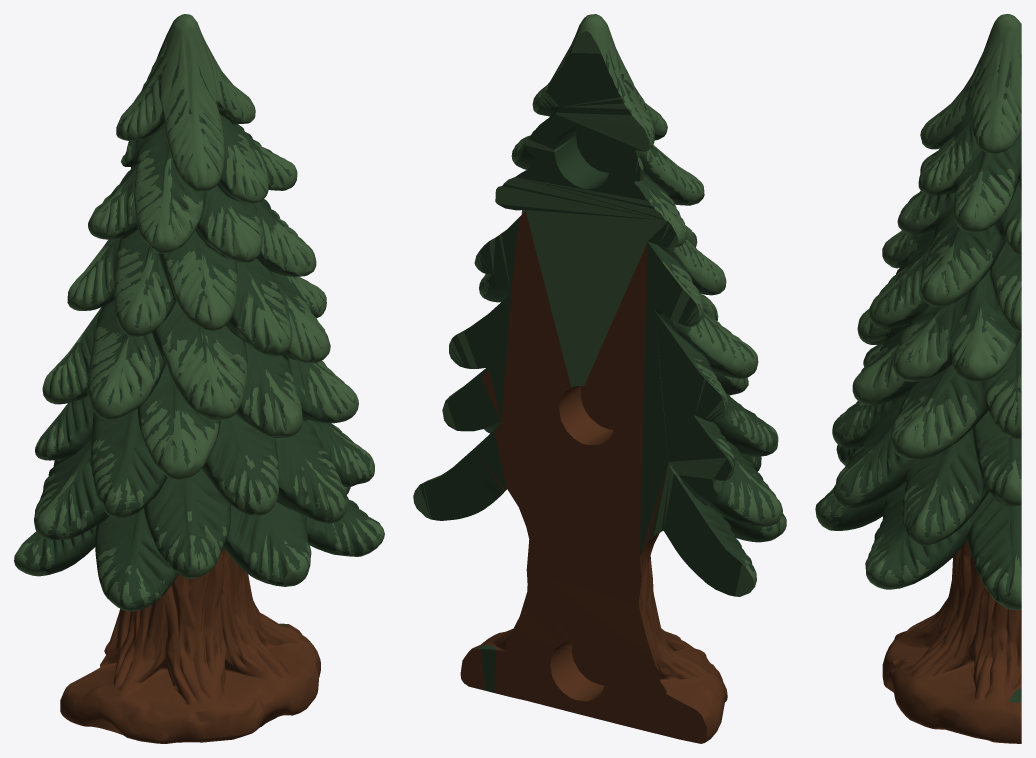
The model's file is douglas-fir-magnet.glb.
3 renders of one model, left to right at view 1: azimuth 30°, elevation 25°; view 2: azimuth 150°, elevation 25°; view 3: azimuth 270°, elevation 25°, orthographic. The views are drawn at different scales.
Parts seen in each view (by area): view 1: magnet; view 2: magnet; view 3: magnet.
Part boxes in pixels (<box>): magnet: <box>14,14,384,743</box>; magnet: <box>413,14,786,743</box>; magnet: <box>815,14,1021,743</box>.
Size of the model in its own units: 38.56 by 74.96 by 20.74.
